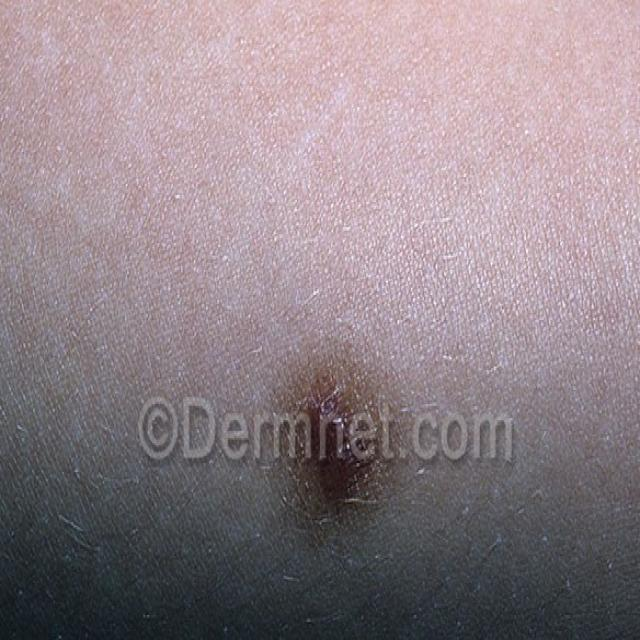Vascular Tumors: (232, 348, 426, 549)
